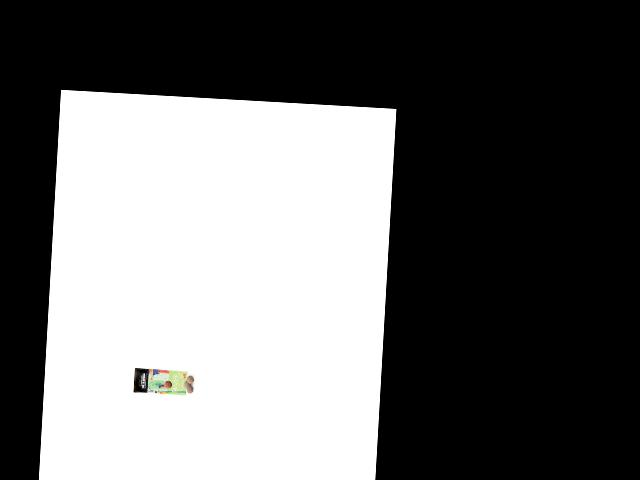chocolate: (130, 364, 188, 401)
